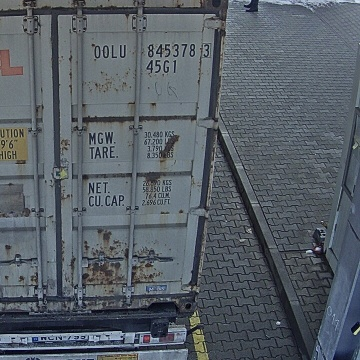serial_id: (94, 44, 210, 58)
